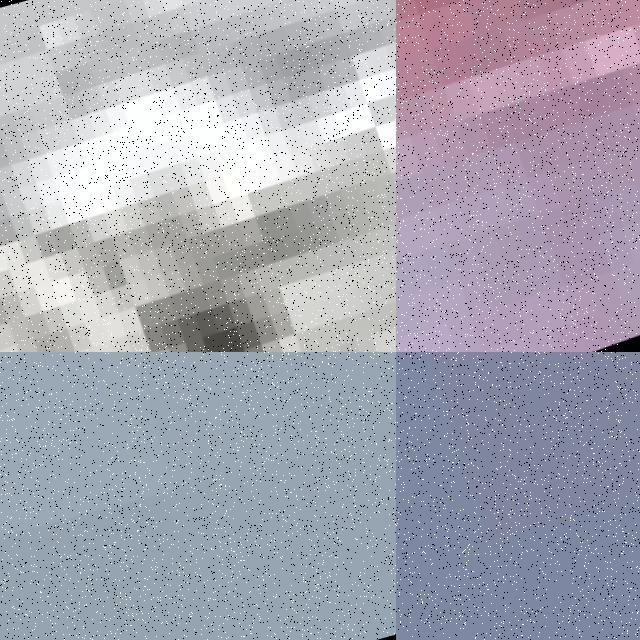0: (0, 0, 396, 352), (396, 352, 640, 640)
drone: (396, 0, 640, 352)
